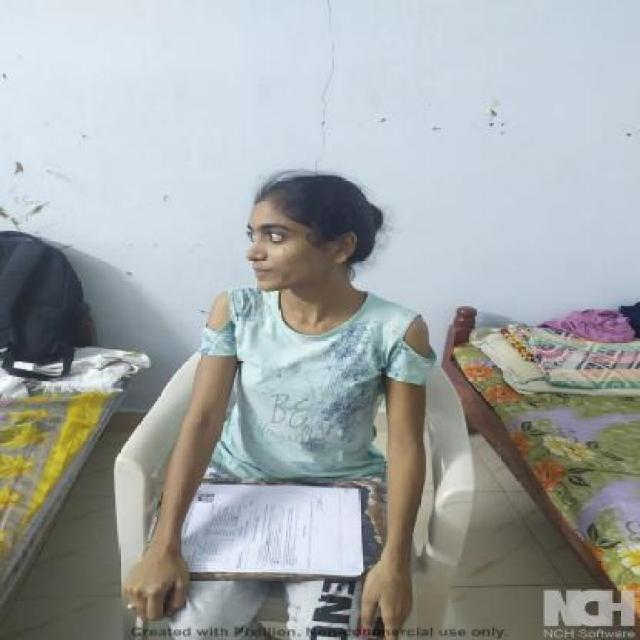cheating: (125, 163, 447, 614)
